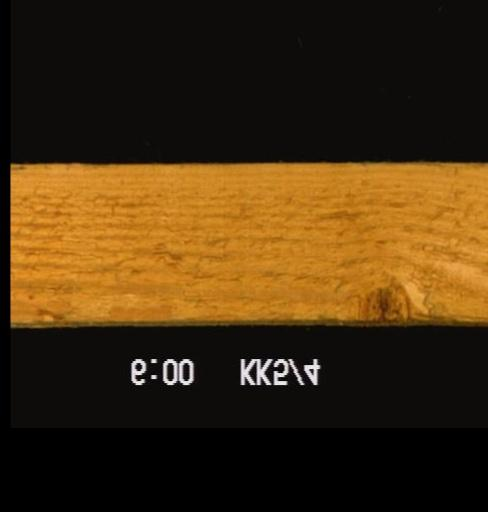edge_knot: (332, 276, 422, 323)
